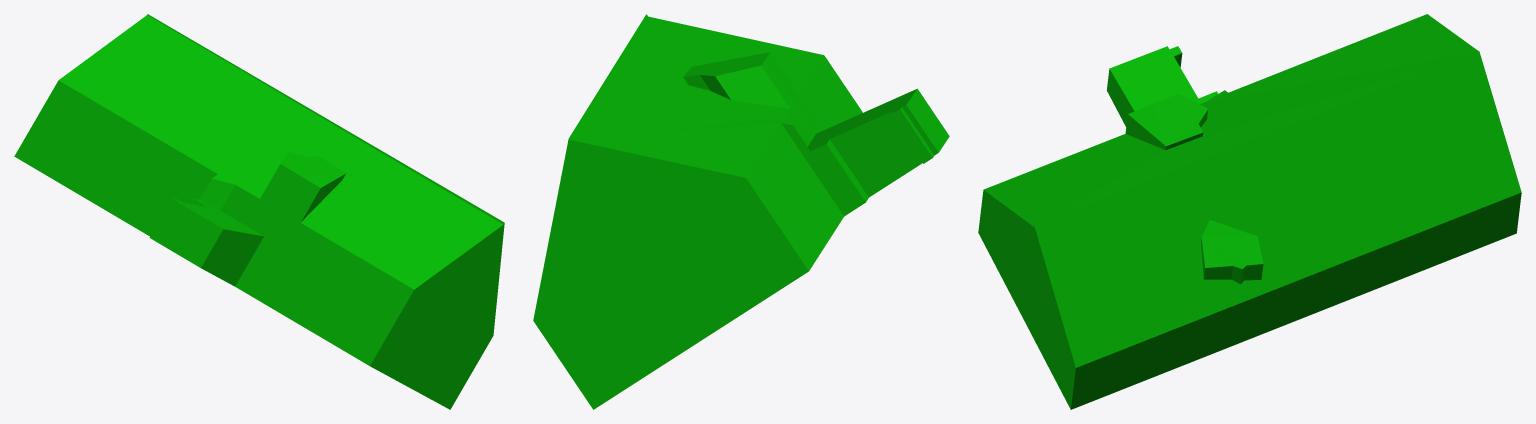
The picture shows the model from 3 angles, left to right: view 1: azimuth 30°, elevation 25°; view 2: azimuth 150°, elevation 25°; view 3: azimuth 270°, elevation 25°; orthographic projection. The views are drawn at different scales.
Visible parts, largest first — view 1: mesh; view 2: mesh; view 3: mesh.
Part boxes in pixels (<box>): mesh: <box>14,14,504,409</box>; mesh: <box>533,14,949,409</box>; mesh: <box>978,14,1521,409</box>.
Bounding box in the file's own units: 17.99 × 15.35 × 25.09.
